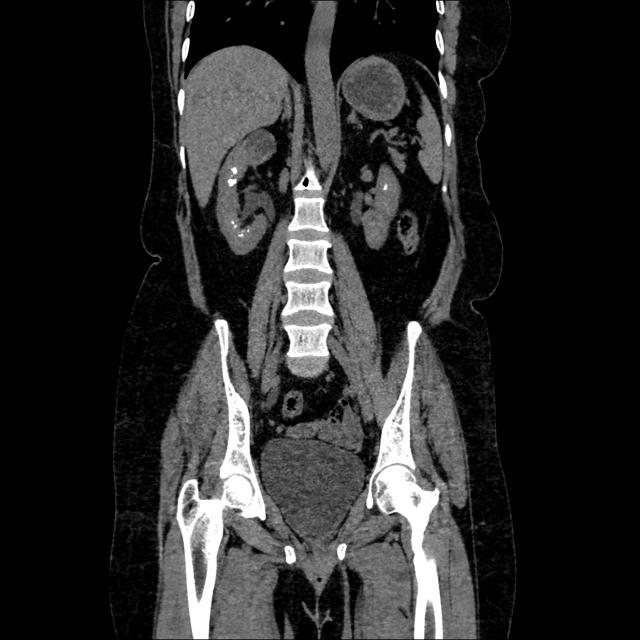kidney: (214, 125, 279, 256), (363, 162, 401, 251)
stone: (227, 177, 237, 187), (382, 181, 388, 191), (230, 166, 237, 174), (237, 232, 244, 238), (231, 219, 234, 225), (247, 228, 250, 232), (234, 224, 236, 229)
